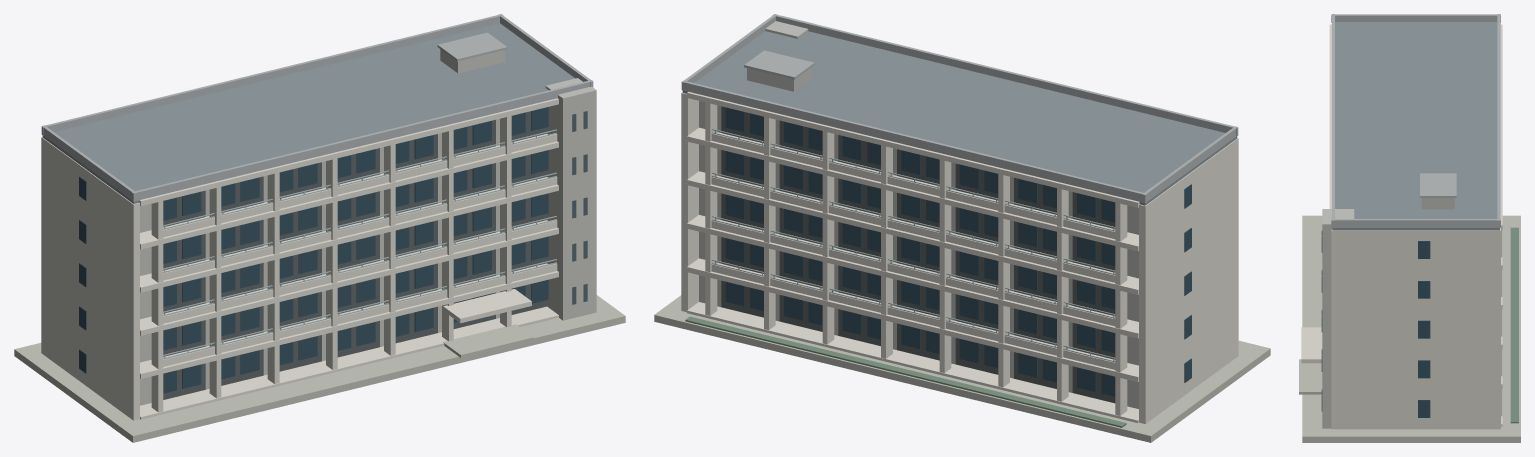
The picture shows the model from 3 angles, left to right: view 1: azimuth 30°, elevation 25°; view 2: azimuth 150°, elevation 25°; view 3: azimuth 270°, elevation 25°; orthographic projection. The views are drawn at different scales.
Size of the model in its own units: 36.4 by 17.1 by 15.43.
